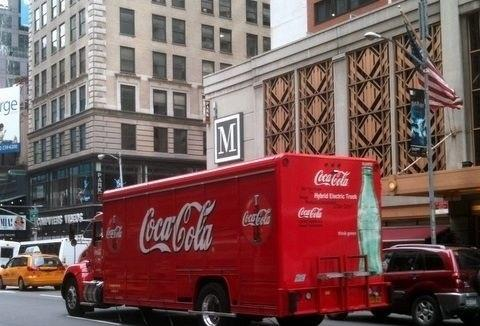coca_cola: (133, 197, 214, 254)
